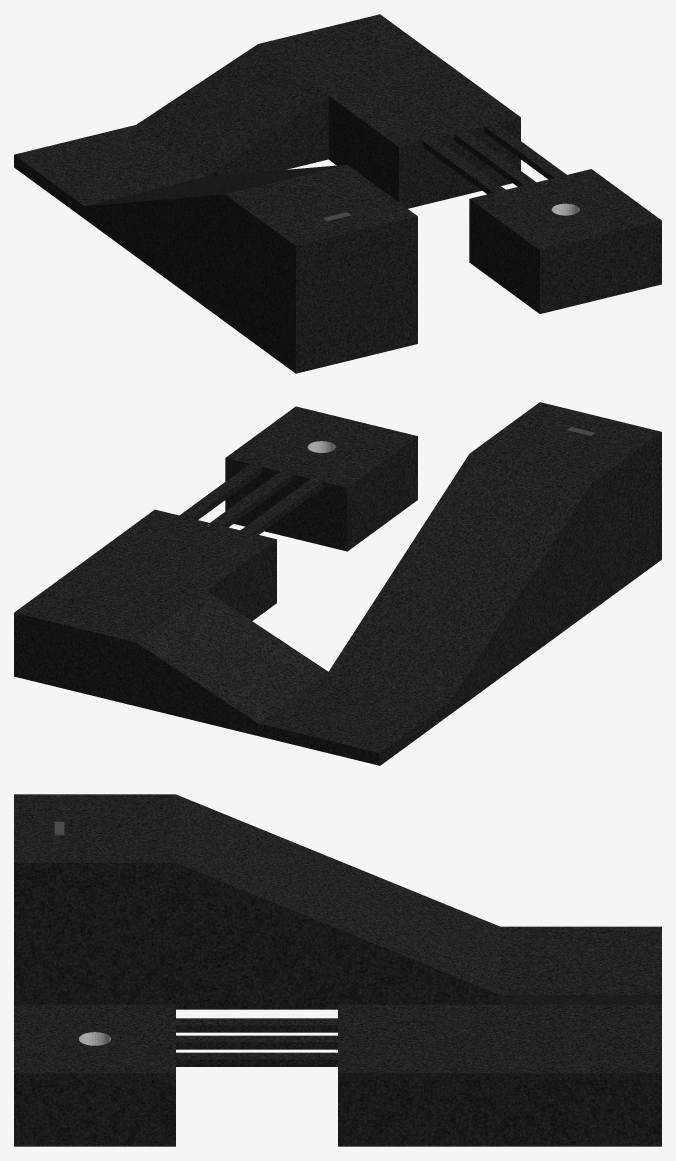
The model's file is Hole 3 Base.glb.
The picture shows the model from 3 angles, top to bottom: view 1: azimuth 30°, elevation 25°; view 2: azimuth 150°, elevation 25°; view 3: azimuth 270°, elevation 25°; orthographic projection. The views are drawn at different scales.
Parts seen in each view (by area): view 1: Hole 3 Base; view 2: Hole 3 Base; view 3: Hole 3 Base.
Part boxes in pixels (box(x1,y1,x2,y2)): Hole 3 Base: box(14, 14, 661, 373); Hole 3 Base: box(14, 402, 661, 765); Hole 3 Base: box(14, 794, 661, 1146).
Size of what is drawn, in the model's own units: 6 by 2 by 8.
Materials: 3 (1 with a texture image).
